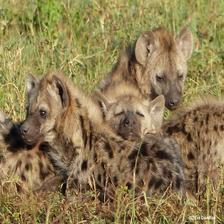hyena: (16, 74, 192, 198), (96, 24, 197, 134)
